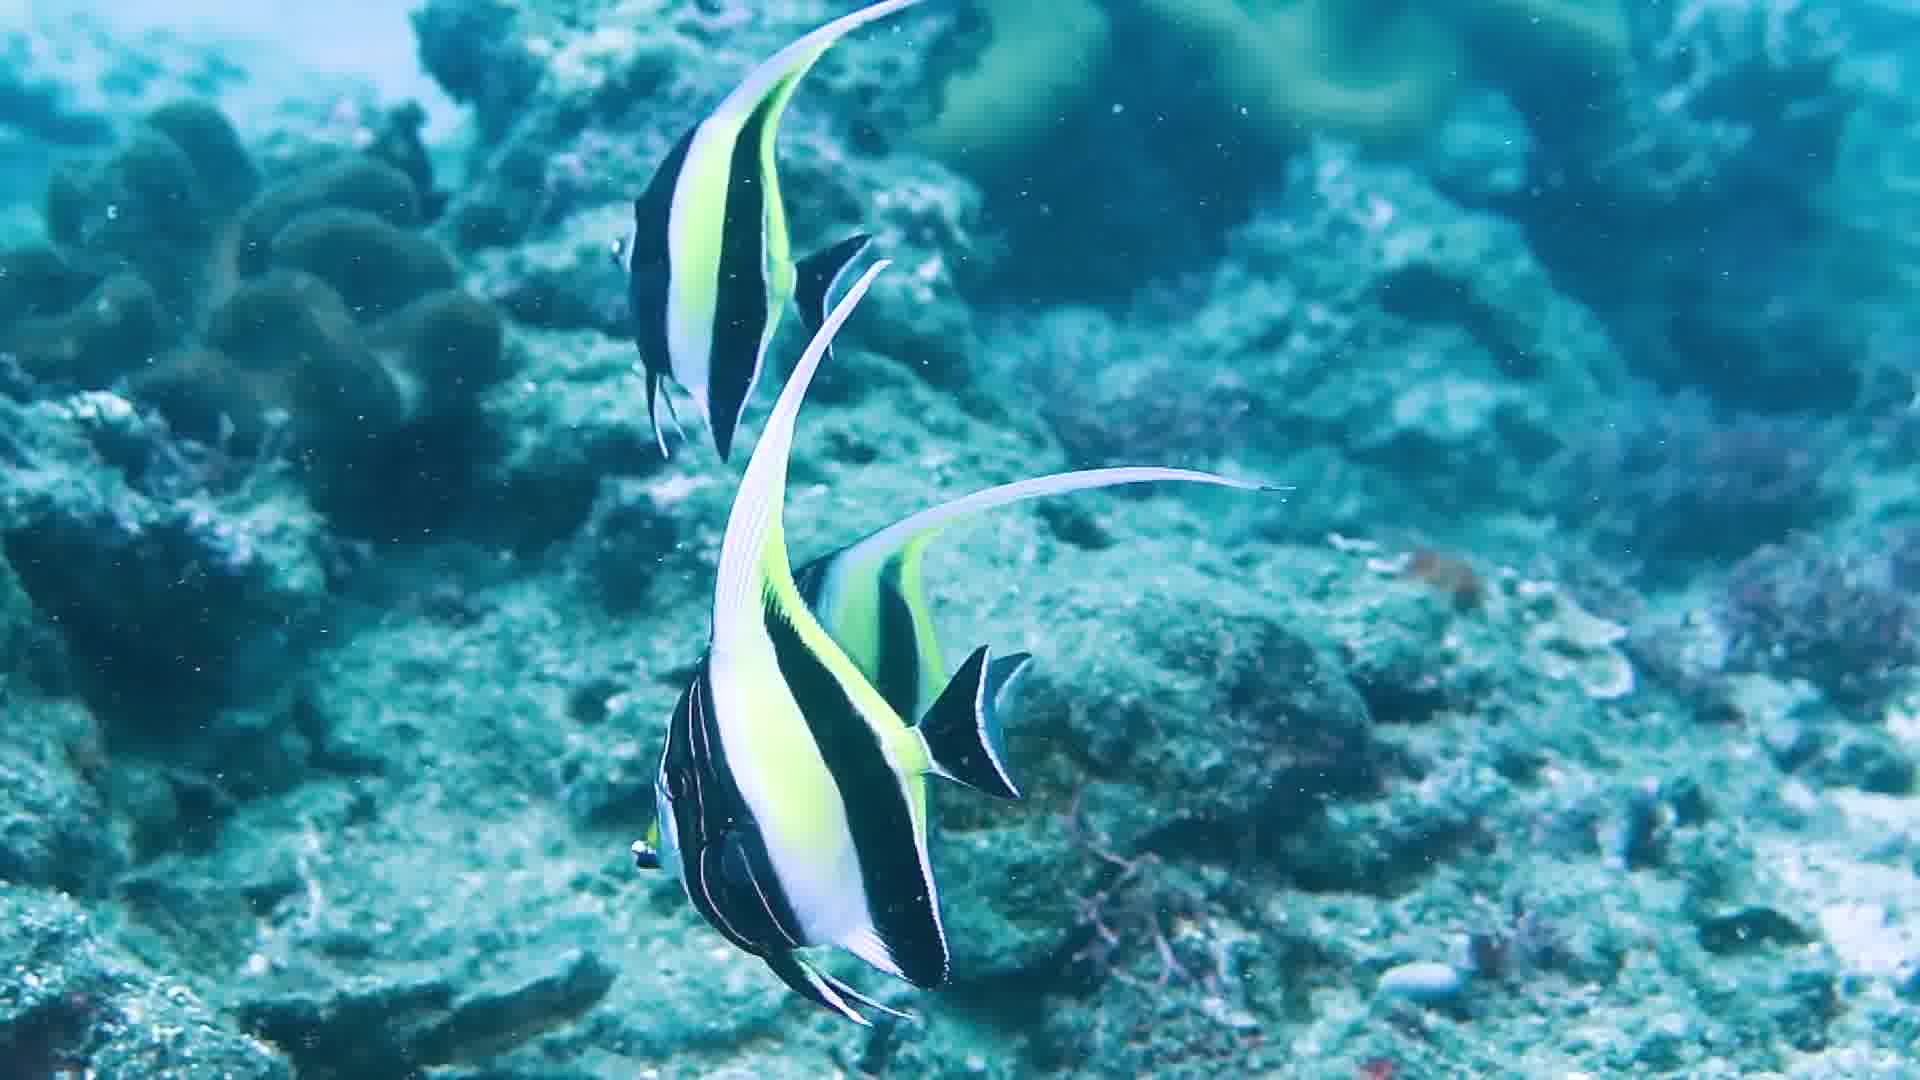Zanclus cornutus: (640, 491, 952, 1001), (584, 1, 895, 509)
